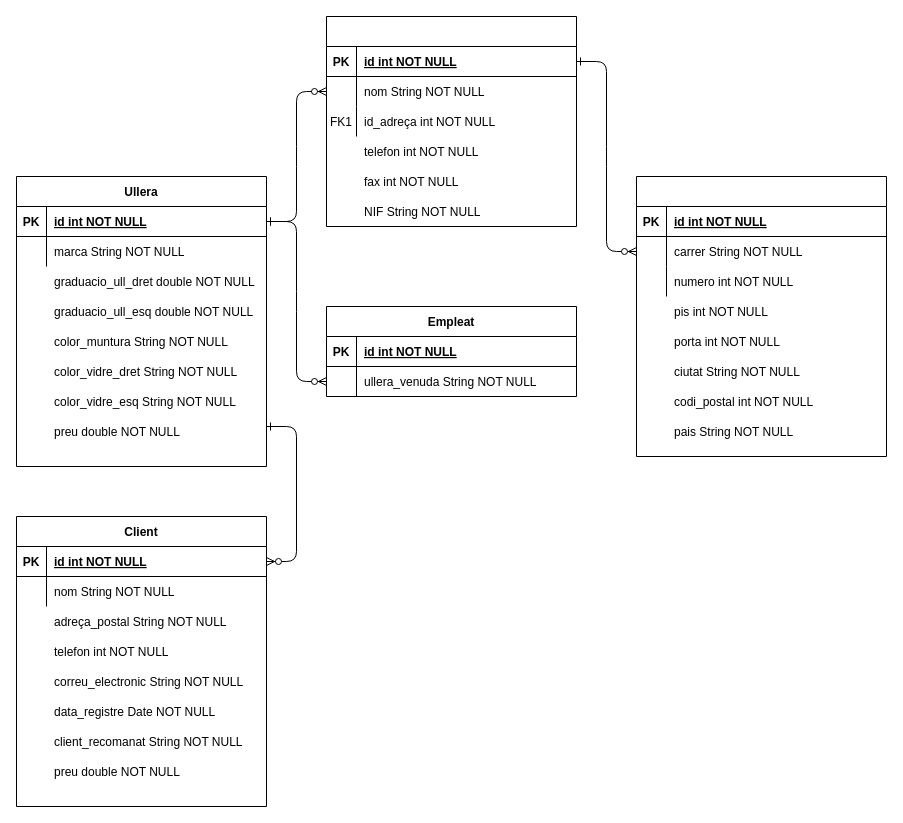
Image size: 903x823. Some labels were removed from this diagram. Here are the shapes that lost their labels. From the top down, the box of each, then its label:
(326, 16, 576, 226): Proveïdor
(636, 176, 886, 456): Adreça
